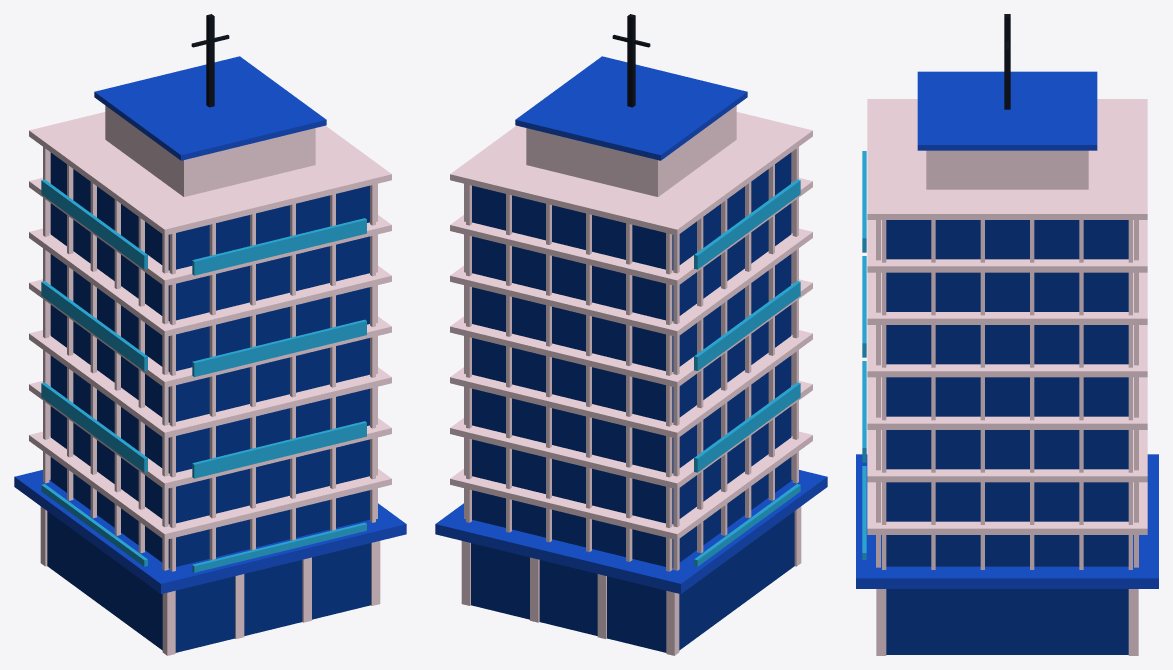
File: citypop_commercial_corner_c.glb
3 views of the same model, side by side, from view 1: azimuth 30°, elevation 25°; view 2: azimuth 150°, elevation 25°; view 3: azimuth 270°, elevation 25° (orthographic). The views are drawn at different scales.
Visible parts, largest first — view 1: ModernistHotel; view 2: ModernistHotel; view 3: ModernistHotel.
Part boxes in pixels (bbox=[...]): ModernistHotel: bbox=[14, 14, 406, 655]; ModernistHotel: bbox=[435, 14, 827, 655]; ModernistHotel: bbox=[856, 14, 1158, 655].
Size of the model in its own units: 16.2 by 35.8 by 16.74.
